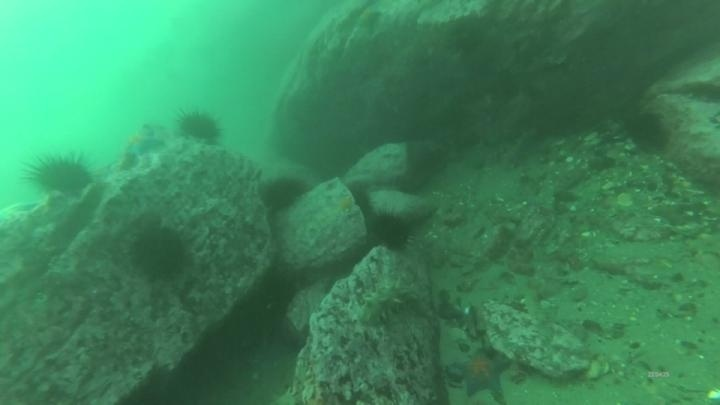echinus: (128, 222, 192, 282), (24, 150, 96, 198), (622, 108, 670, 153), (367, 210, 414, 253), (175, 107, 225, 146), (259, 174, 309, 213), (345, 183, 376, 218)
holothurian: (357, 275, 416, 327)
starfish: (448, 345, 513, 402), (118, 124, 165, 165), (329, 192, 357, 214)
